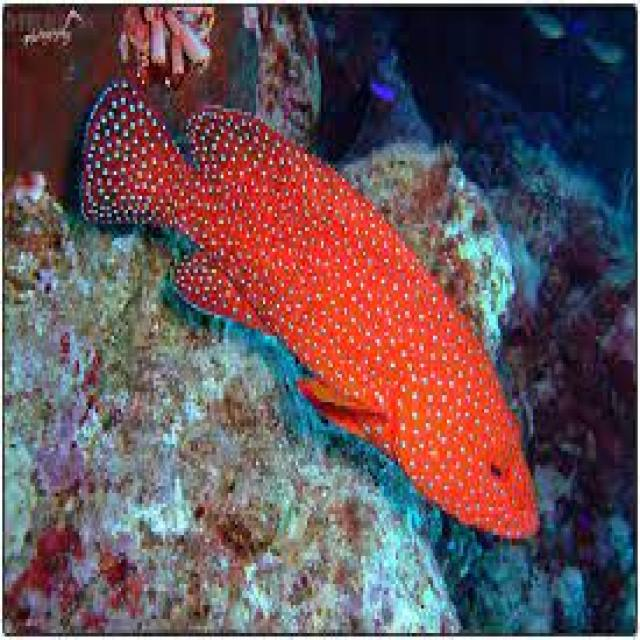Plectropomus-leopardus: (58, 68, 548, 546)
